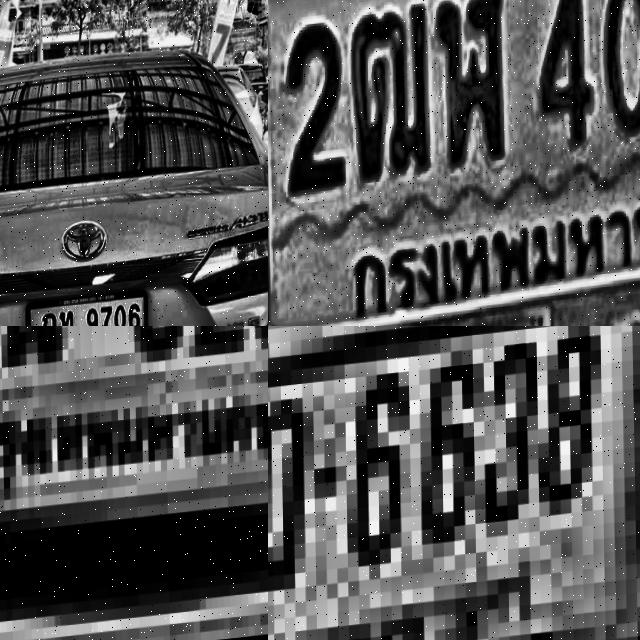license-plate: (268, 0, 640, 326), (268, 326, 640, 640), (0, 326, 268, 584), (21, 285, 148, 326)
